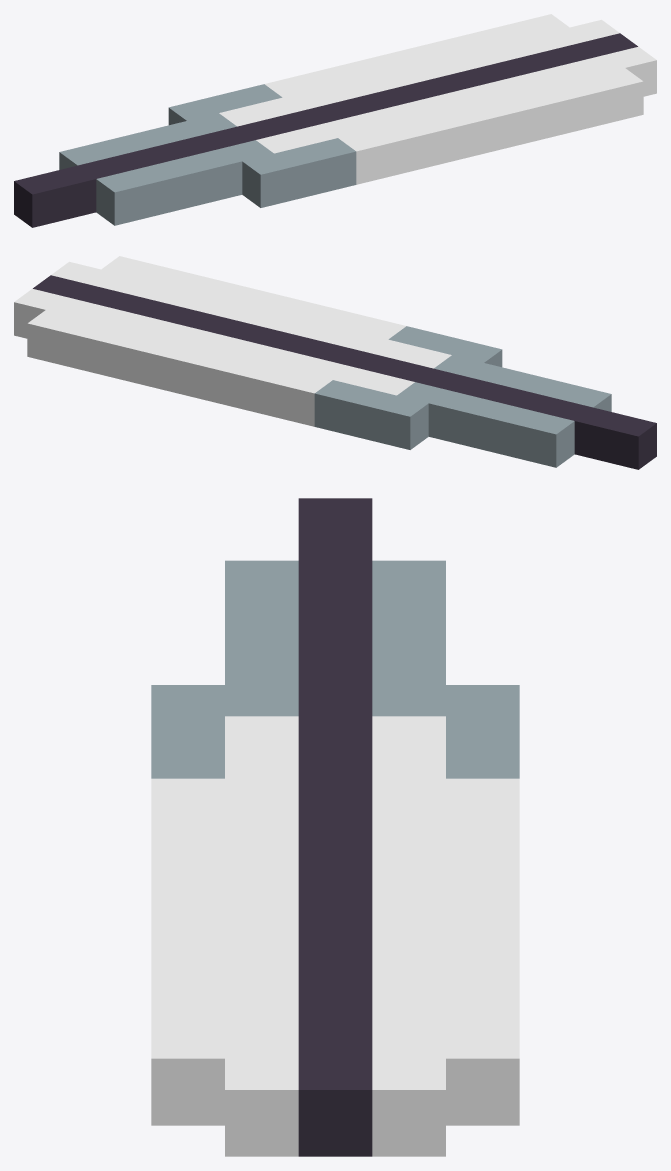
The model's file is feather.obj.
3 renders of one model, top to bottom at view 1: azimuth 30°, elevation 25°; view 2: azimuth 150°, elevation 25°; view 3: azimuth 270°, elevation 25°, orthographic. The views are drawn at different scales.
Bounding box in the file's own units: 1.9 × 0.1 × 0.5.
Materials: 1 (1 with a texture image).
